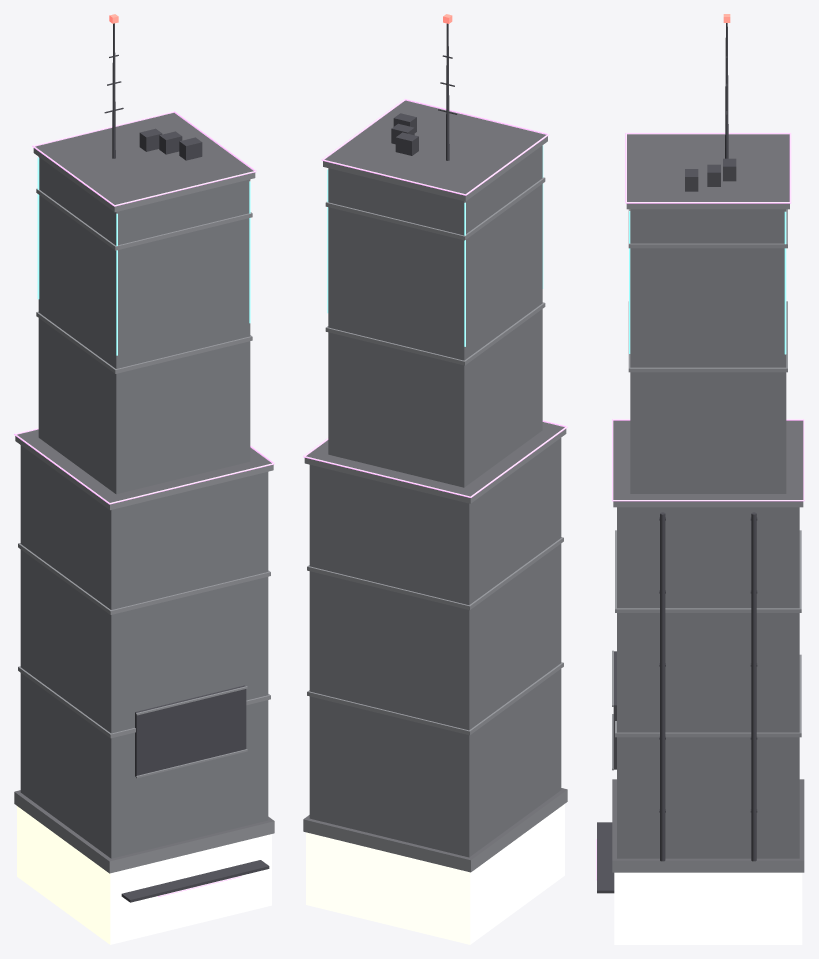
The model's file is s14_setback.glb.
3 views of the same model, side by side, from view 1: azimuth 30°, elevation 25°; view 2: azimuth 150°, elevation 25°; view 3: azimuth 270°, elevation 25° (orthographic).
Visible parts, largest first — view 1: s14_setback; view 2: s14_setback; view 3: s14_setback.
Part boxes in pixels (left/top/right/bottom): s14_setback: left=14, top=14, right=274, bottom=944; s14_setback: left=303, top=14, right=567, bottom=944; s14_setback: left=596, top=14, right=804, bottom=944.
Size of the model in its own units: 14.48 by 72.25 by 15.52.
